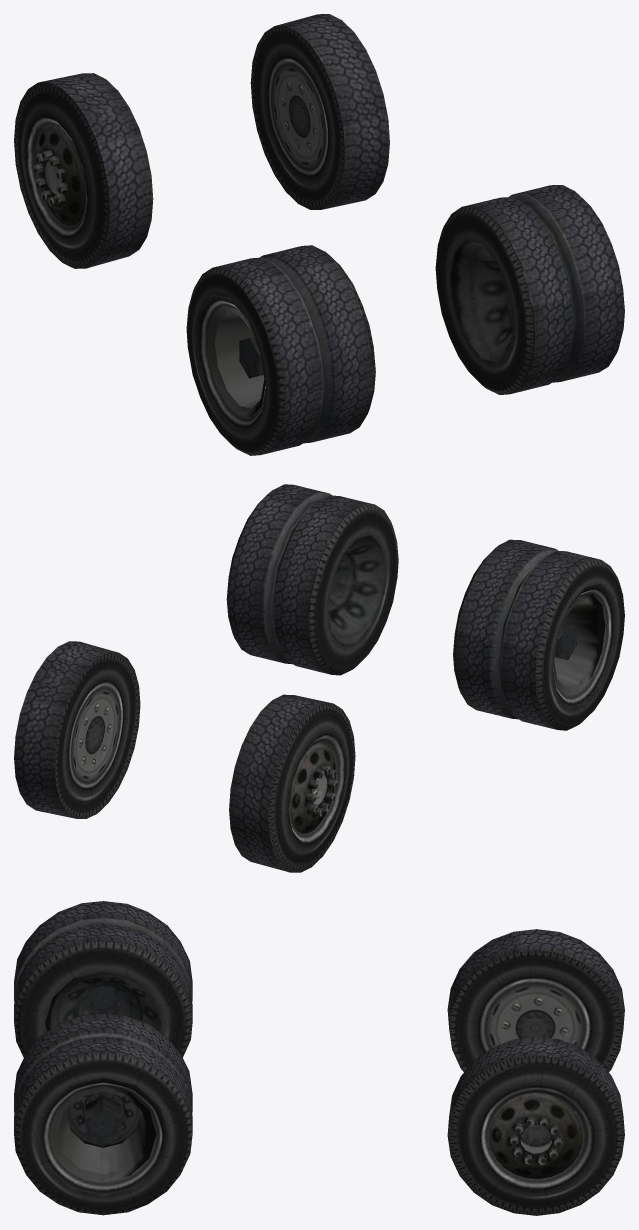
Rendered from Wheels.fbx.
The picture shows the model from 3 angles, top to bottom: view 1: azimuth 30°, elevation 25°; view 2: azimuth 150°, elevation 25°; view 3: azimuth 270°, elevation 25°; orthographic projection. The views are drawn at different scales.
Parts seen in each view (by area): view 1: RL, RR, FR, FL; view 2: RR, RL, FL, FR; view 3: RR, FR, RL, FL.
Boxes of the visible parts, x1,y1,x2,y2 form: RL: (186, 245, 375, 455); RR: (435, 185, 624, 394); FR: (250, 14, 389, 209); FL: (14, 73, 153, 268); RR: (226, 484, 398, 675); RL: (453, 539, 624, 730); FL: (229, 694, 355, 872); FR: (14, 641, 140, 818); RR: (14, 1013, 192, 1215); FR: (447, 1036, 624, 1215); RL: (14, 901, 192, 1057); FL: (447, 929, 624, 1071).
Size of the model in its own units: 0.065 by 0.0302 by 0.1033.
